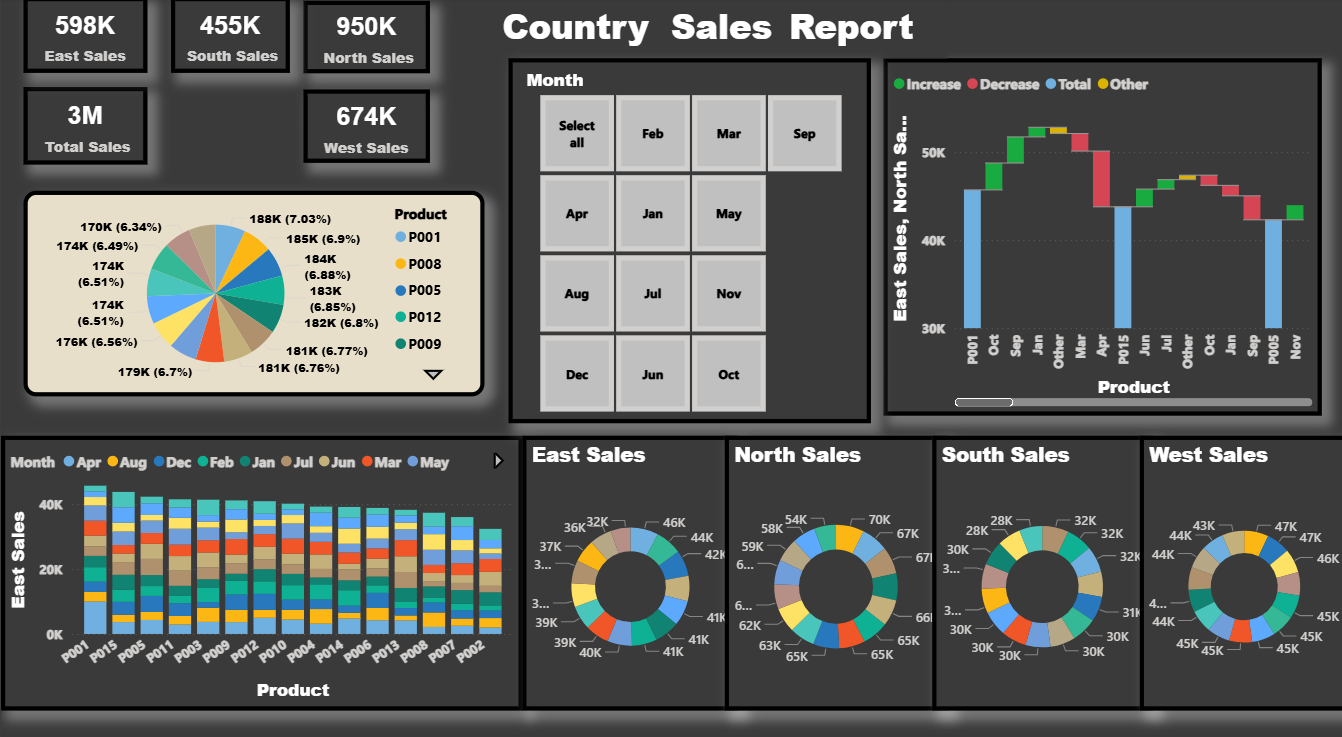

The page's visual inventory and layout, read from the dashboard file:
{"tool":"powerbi","page":{"name":"Page 1","canvas":[1280,720],"ordinal":0},"visuals":[{"type":"columnChart","fields":{"Category":["Country  Sales Report.Product"],"Series":["Country  Sales Report.Month"],"Y":["Sum(Country  Sales Report.East Sales)"]},"box":[0,416.3,495.4,260.5],"z":0},{"type":"card","fields":{"Values":["Sum(Country  Sales Report.Total Sales)"]},"box":[20.9,84.9,117.4,73.3],"z":1},{"type":"card","fields":{"Values":["Sum(Country  Sales Report.East Sales)"]},"box":[20.9,0,117.4,72.1],"z":2},{"type":"card","fields":{"Values":["Sum(Country  Sales Report.North Sales)"]},"box":[287.2,3.5,119.8,68.6],"z":3},{"type":"card","fields":{"Values":["Sum(Country  Sales Report.South Sales)"]},"box":[161.6,0,112.8,72.1],"z":4},{"type":"card","fields":{"Values":["Sum(Country  Sales Report.West Sales)"]},"box":[287.2,88.4,119.8,69.8],"z":5},{"type":"waterfallChart","fields":{"Category":["Country  Sales Report.Product"],"Breakdown":["Country  Sales Report.Month"],"Y":["Sum(Country  Sales Report.East Sales)"]},"box":[837.2,58.1,416.3,339.5],"z":7},{"type":"textbox","box":[462.8,0,454.7,58.1],"z":8},{"type":"slicer","fields":{"Values":["Country  Sales Report.Month"]},"box":[481.4,58.1,344.2,346.5],"z":9},{"type":"pieChart","fields":{"Category":["Country  Sales Report.Product"],"Y":["Sum(Country  Sales Report.Total Sales)"]},"box":[20.9,183.7,437.2,195.3],"z":10},{"type":"donutChart","title":"East Sales","fields":{"Category":["Country  Sales Report.Product"],"Y":["Sum(Country  Sales Report.East Sales)"]},"box":[495.4,416.3,205.8,260.5],"z":11},{"type":"donutChart","title":"North Sales ","fields":{"Category":["Country  Sales Report.Product"],"Y":["Sum(Country  Sales Report.North Sales)"]},"box":[687.2,416.3,211.6,260.5],"z":12},{"type":"donutChart","title":" South Sales ","fields":{"Category":["Country  Sales Report.Product"],"Y":["Sum(Country  Sales Report.South Sales)"]},"box":[883.7,416.3,209.3,260.5],"z":13},{"type":"donutChart","title":"West Sales","fields":{"Category":["Country  Sales Report.Product"],"Y":["Sum(Country  Sales Report.West Sales)"]},"box":[1081.4,416.3,198.8,260.5],"z":14}]}

Visuals, with their boxes in screenshot pixels (x1, y1, x2, y2), scaled from the page's 1280x720 canvas onto the 1342x737 screenshot:
columnChart - Country  Sales Report.Product x Country  Sales Report.Month: 0,426,519,693
card - Sum(Country  Sales Report.Total Sales): 22,87,145,162
card - Sum(Country  Sales Report.East Sales): 22,0,145,74
card - Sum(Country  Sales Report.North Sales): 301,4,427,74
card - Sum(Country  Sales Report.South Sales): 169,0,288,74
card - Sum(Country  Sales Report.West Sales): 301,90,427,162
waterfallChart - Country  Sales Report.Product x Country  Sales Report.Month: 878,59,1314,407
textbox: 485,0,962,59
slicer - Country  Sales Report.Month: 505,59,866,414
pieChart - Country  Sales Report.Product x Sum(Country  Sales Report.Total Sales): 22,188,480,388
"East Sales" donutChart: 519,426,735,693
"North Sales " donutChart: 720,426,942,693
" South Sales " donutChart: 927,426,1146,693
"West Sales" donutChart: 1134,426,1341,693
